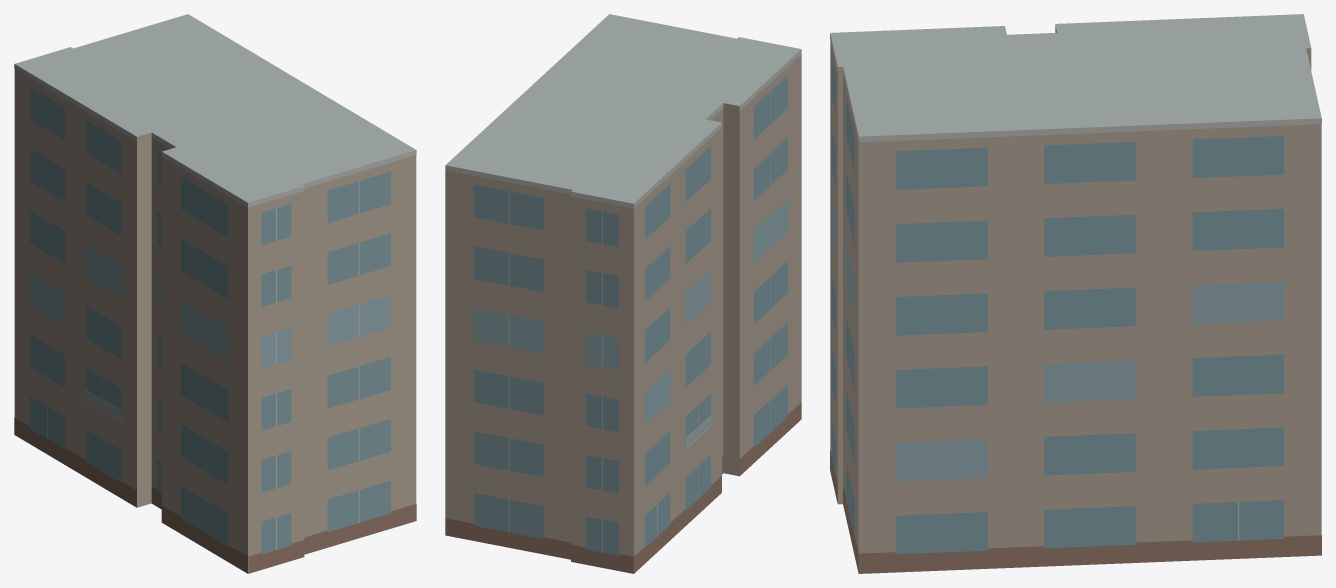
The model's file is survey-upis-33028849.glb.
3 views of the same model, side by side, from view 1: azimuth 30°, elevation 25°; view 2: azimuth 150°, elevation 25°; view 3: azimuth 270°, elevation 25° (orthographic). The views are drawn at different scales.
Parts seen in each view (by area): view 1: survey-upis-33028849.tmp; view 2: survey-upis-33028849.tmp; view 3: survey-upis-33028849.tmp.
Boxes of the visible parts, <box> form: survey-upis-33028849.tmp: <box>14,14,416,573</box>; survey-upis-33028849.tmp: <box>445,14,801,573</box>; survey-upis-33028849.tmp: <box>830,14,1321,573</box>.
Size of the model in its own units: 11.02 by 18.3 by 18.66.
